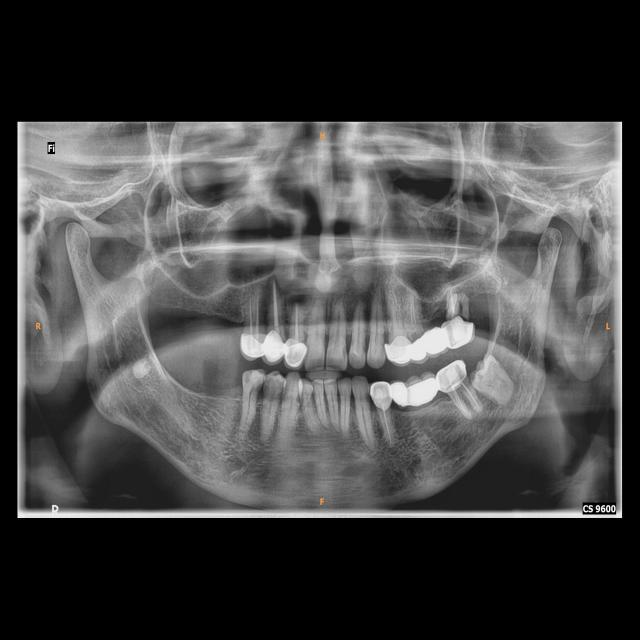dentin-curugu: (263, 382, 274, 399)
kanal-tedavisi: (246, 292, 262, 336), (462, 382, 482, 412), (271, 280, 282, 330), (381, 409, 394, 448), (291, 298, 302, 340), (442, 292, 458, 312)
kaplama: (442, 318, 474, 349), (383, 334, 414, 363), (438, 362, 468, 391), (284, 337, 308, 365), (264, 329, 283, 364), (370, 383, 393, 410), (240, 336, 266, 359), (410, 335, 427, 362)
kopru: (389, 376, 445, 414), (420, 314, 450, 358)
